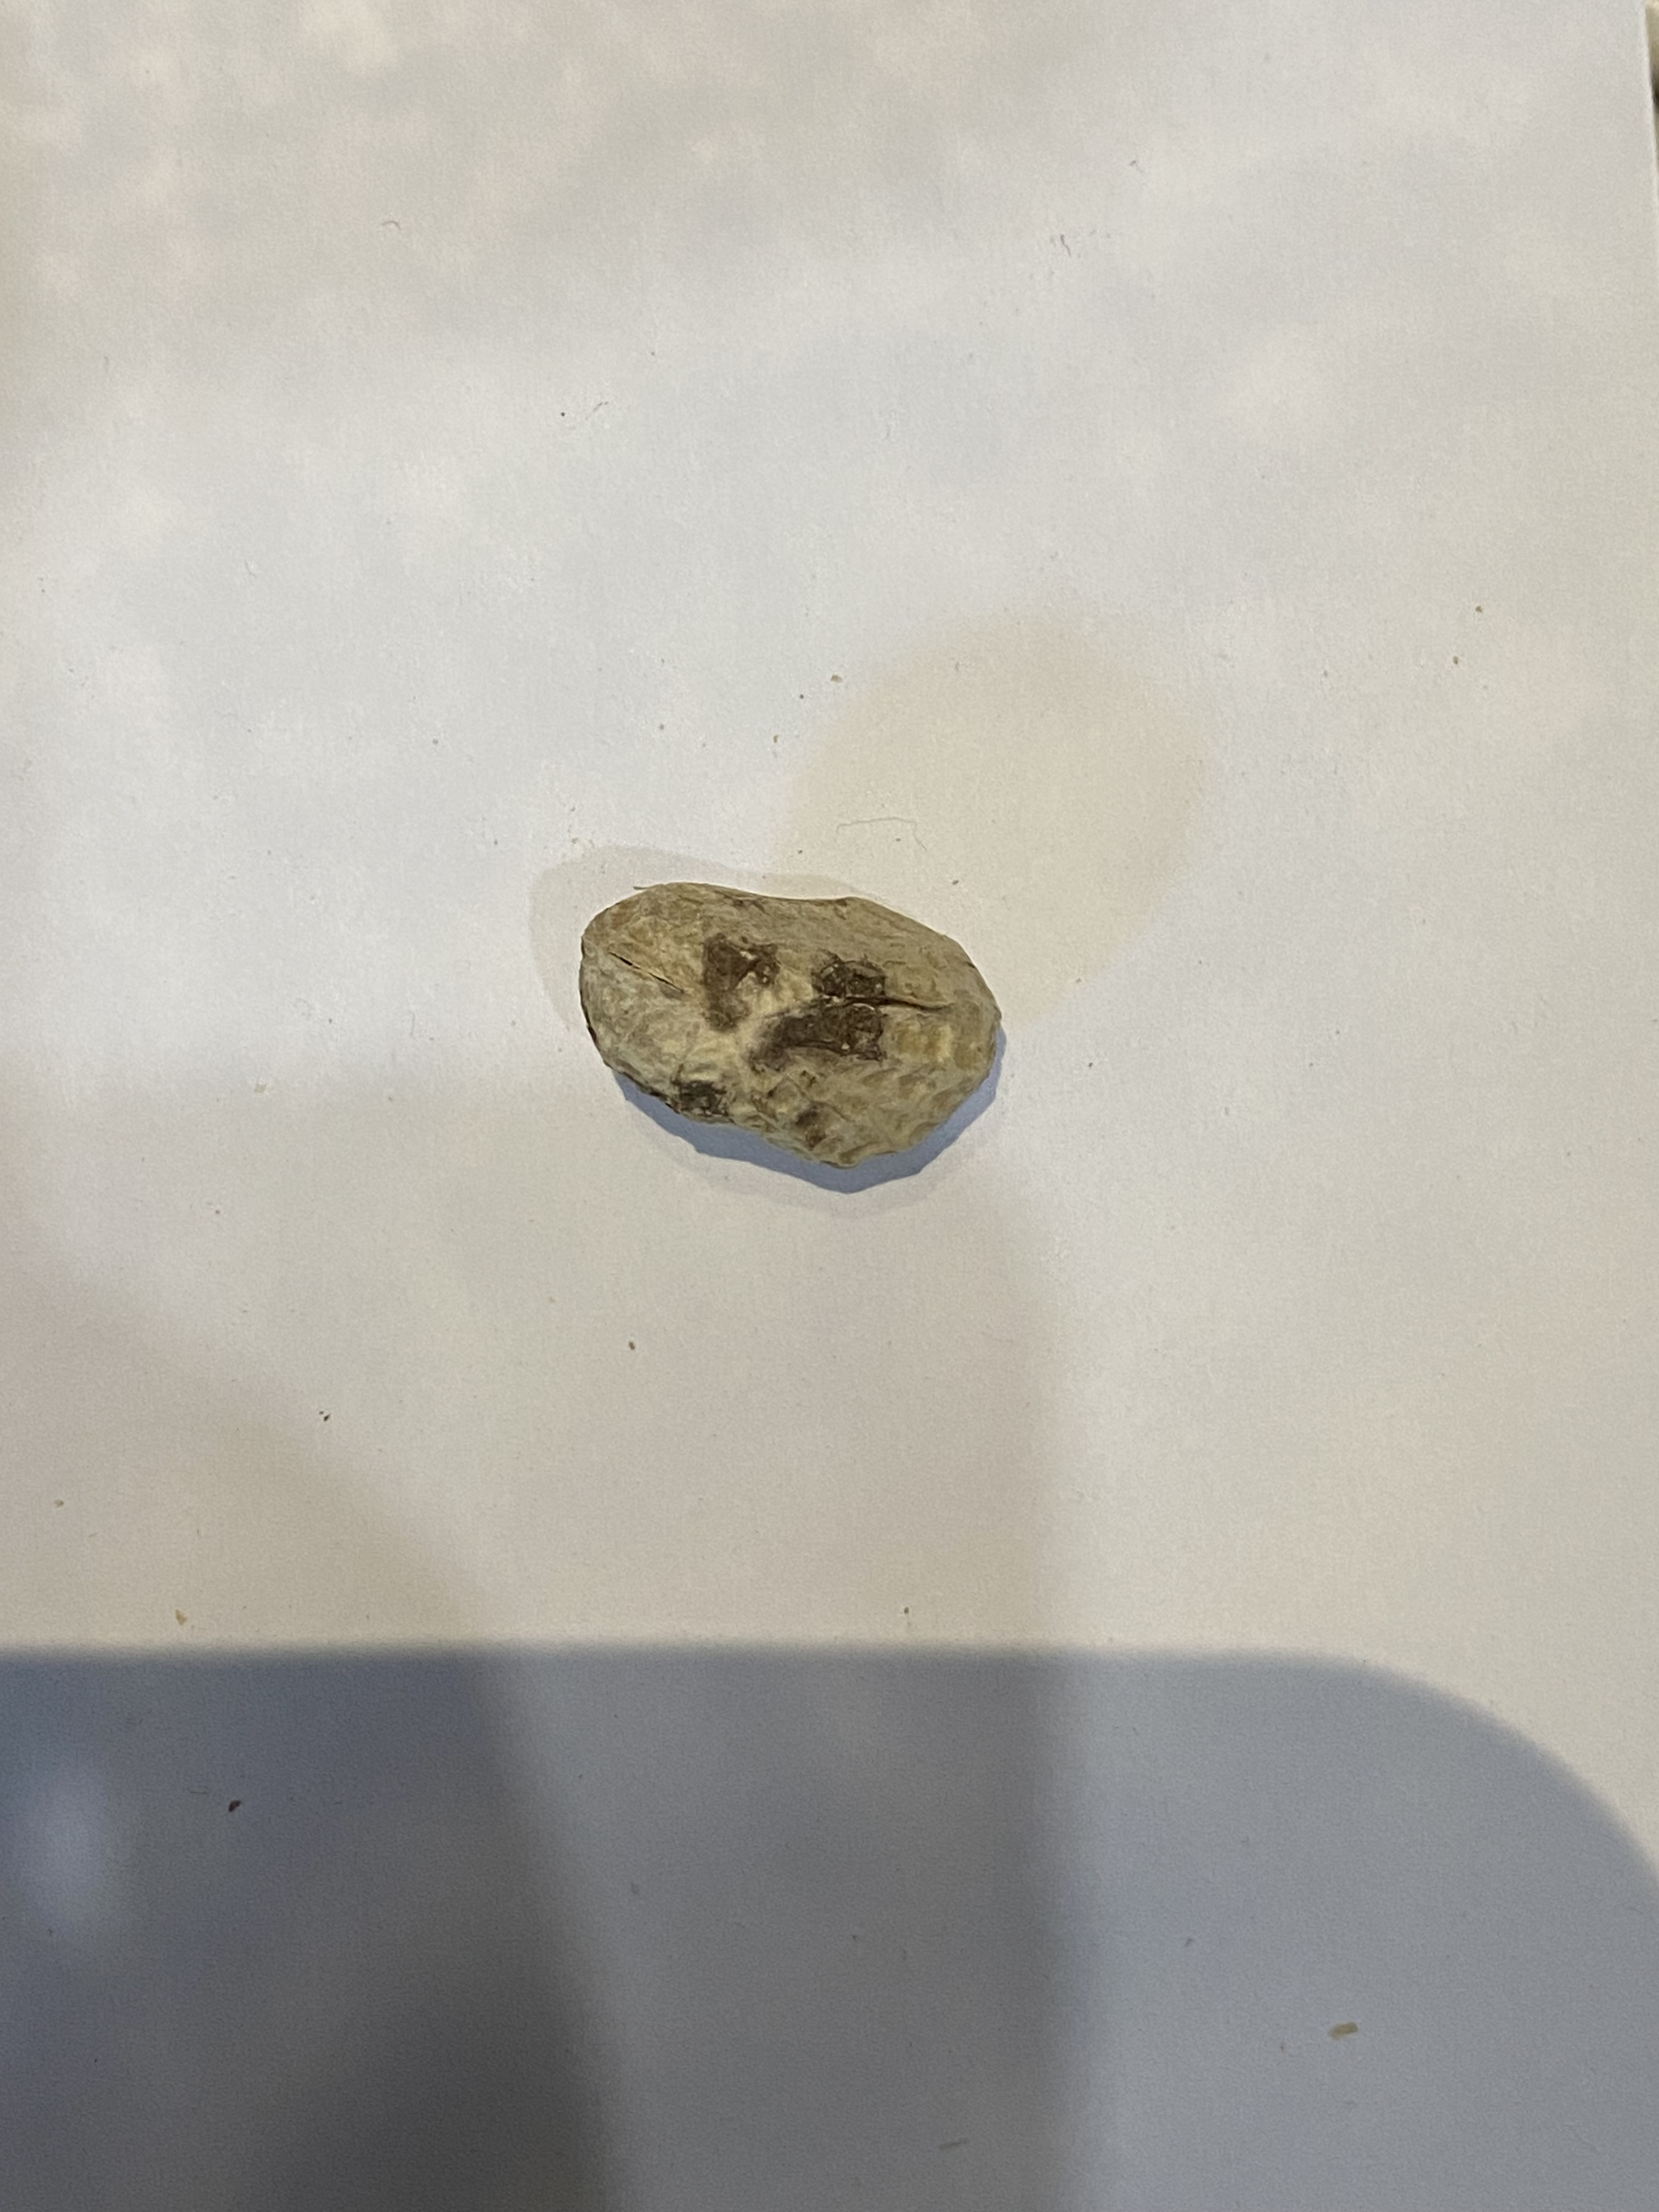kacang1: (549, 855, 1030, 1181)
